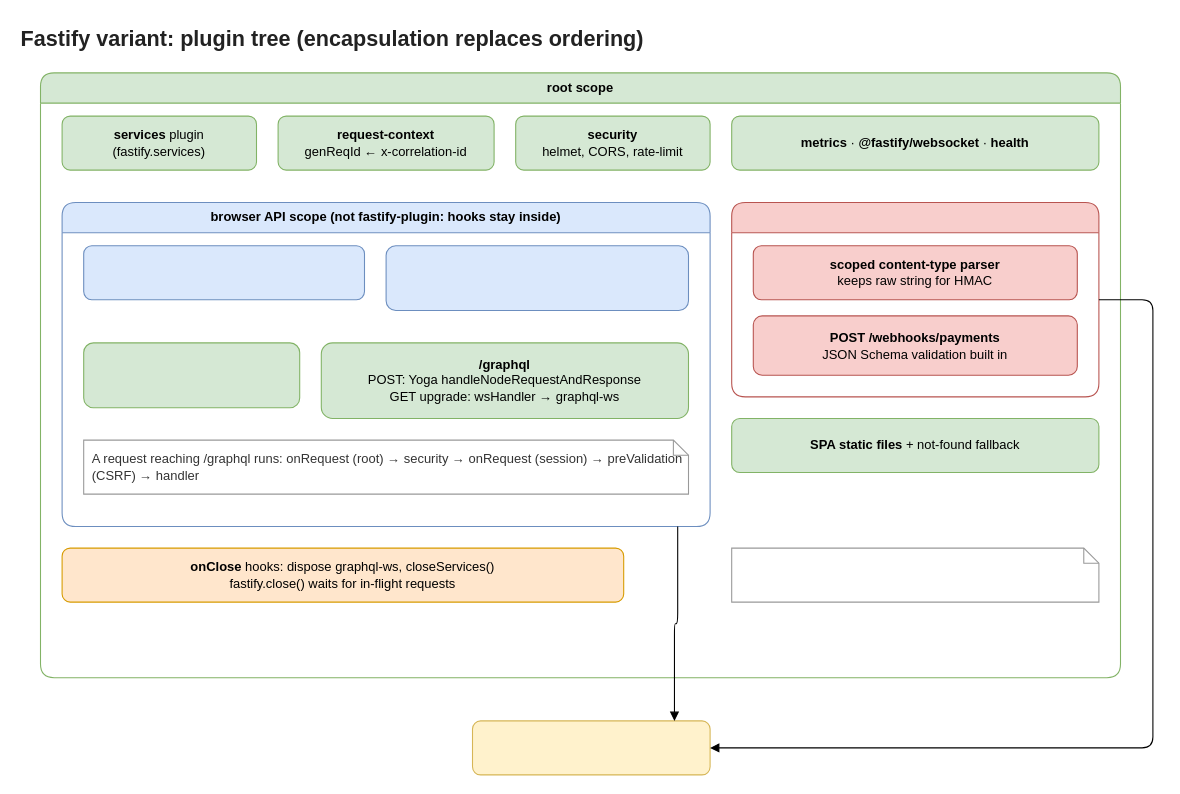
Some shapes in this 1180 by 794 pixel diagram are drawn without their labels. Here are the shapes that lost their labels. From the top down, the box of each, then its label:
(83, 245, 364, 300): onRequest hook viewer = resolveSession(cookie)
(385, 245, 688, 310): preValidation hook POST without x-ofl-csrf → 403 (before schema 400)
(731, 201, 1099, 397): /webhooks scope
(83, 342, 300, 408): /auth login, logout
(731, 547, 1099, 602): Files: implementations/fastify/api/build-server.ts, plugins/*.ts, routes/*.ts
(471, 720, 710, 775): @ofl/server-core
